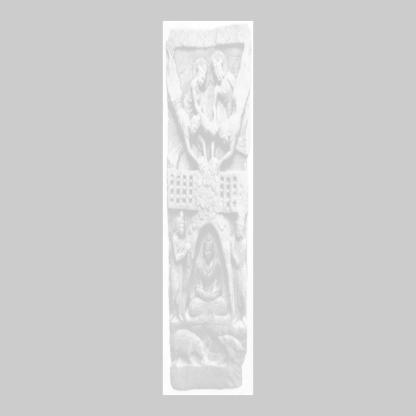buddha-sitting: (188, 231, 228, 323)
